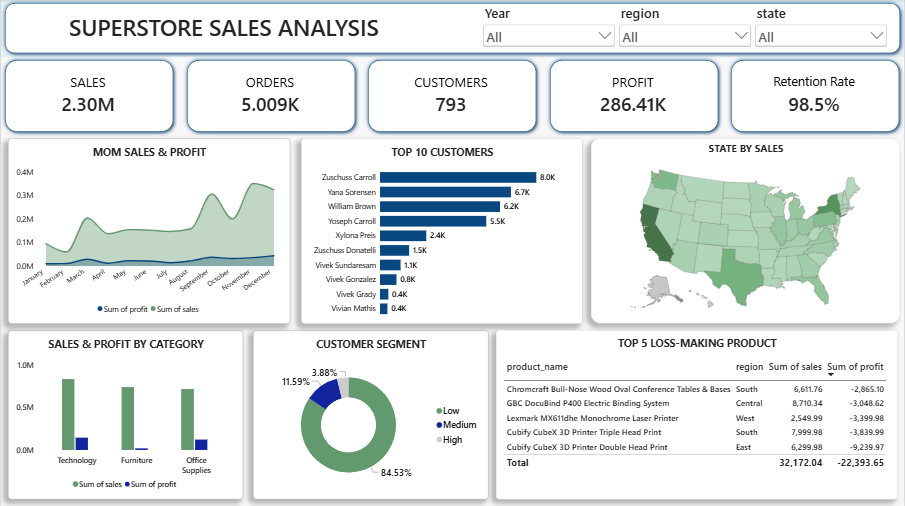

The page's visual inventory and layout, read from the dashboard file:
{"tool":"powerbi","page":{"name":"Page 1","canvas":[1920,1080],"ordinal":0},"visuals":[{"type":"shape","box":[0,0,1920,124.1],"z":0},{"type":"shape","box":[0,121.4,375,170],"z":0,"group":"g1"},{"type":"shape","box":[386.1,121.4,375,170],"z":0,"group":"g2"},{"type":"shape","box":[772.1,121.4,375,170],"z":0,"group":"g3"},{"type":"shape","box":[1158.2,121.4,375,170],"z":0,"group":"g4"},{"type":"shape","box":[1544.2,121.4,375,170],"z":0,"group":"g5"},{"type":"textbox","box":[23.5,17.1,901.1,89.9],"z":1000},{"type":"cardVisual","fields":{"Data":["Sum(superstore_analysis superstore_sales.sales)"]},"box":[16,148.2,336.8,110],"z":1000,"group":"g1"},{"type":"cardVisual","fields":{"Data":["Count(superstore_analysis superstore_sales.order_id)"]},"box":[402.1,148.2,336.8,110],"z":1000,"group":"g2"},{"type":"cardVisual","fields":{"Data":["Sum(superstore_analysis superstore_sales.profit)"]},"box":[1174.2,148.2,336.8,110],"z":1000,"group":"g4"},{"type":"cardVisual","fields":{"Data":["superstore_analysis superstore_sales.Retention Rate"]},"box":[1560.2,148.2,336.8,110],"z":1000,"group":"g5"},{"type":"cardVisual","fields":{"Data":["Count(superstore_analysis superstore_sales.customer_id)"]},"box":[789.4,149.5,336.8,110],"z":1000,"group":"g3"},{"type":"slicer","fields":{"Values":["superstore_analysis superstore_sales.order_date.Variation.Date Hierarchy.Year"]},"box":[1021,10.7,289,89.9],"z":2000},{"type":"slicer","fields":{"Values":["superstore_analysis superstore_sales.region"]},"box":[1309.4,10.7,290,90],"z":3000},{"type":"slicer","fields":{"Values":["superstore_analysis superstore_sales.state"]},"box":[1598.9,10.7,289,89.9],"z":4000},{"type":"group","id":"g1","title":"CARD","box":[0,121.4,375.8,169.5],"z":5000},{"type":"group","id":"g2","title":"CARD","box":[386.1,121.4,375.8,169.5],"z":6000},{"type":"group","id":"g3","title":"CARD","box":[772.1,121.4,375.8,169.5],"z":7000},{"type":"group","id":"g4","title":"CARD","box":[1158.2,121.4,375.8,169.5],"z":8000},{"type":"group","id":"g5","title":"CARD","box":[1544.2,121.4,375.8,169.5],"z":9000},{"type":"clusteredColumnChart","title":"SALES & PROFIT BY CATEGORY","fields":{"Category":["superstore_analysis superstore_sales.category"],"Y":["Sum(superstore_analysis superstore_sales.sales)","Sum(superstore_analysis superstore_sales.profit)"]},"box":[14.6,704.3,500,360],"z":10000},{"type":"donutChart","title":"CUSTOMER SEGMENT","fields":{"Category":["superstore_analysis superstore_sales.Customer Segment"],"Y":["CountNonNull(superstore_analysis superstore_sales.Customer Segment)"]},"box":[535.1,704.2,500.9,359.6],"z":11000},{"type":"areaChart","title":"MOM SALES & PROFIT","fields":{"Category":["superstore_analysis superstore_sales.order_date.Variation.Date Hierarchy.Month"],"Y":["Sum(superstore_analysis superstore_sales.profit)","Sum(superstore_analysis superstore_sales.sales)"]},"box":[14.6,295.2,600,395],"z":12000},{"type":"barChart","title":"TOP 10 CUSTOMERS","fields":{"Category":["superstore_analysis superstore_sales.customer_name"],"Y":["Sum(superstore_analysis superstore_sales.sales)"]},"box":[637.1,295.2,599.1,394.5],"z":13000},{"type":"tableEx","title":"TOP 5 LOSS-MAKING PRODUCT","fields":{"Values":["superstore_analysis superstore_sales.product_name","superstore_analysis superstore_sales.region","Sum(superstore_analysis superstore_sales.sales)","Sum(superstore_analysis superstore_sales.profit)"]},"box":[1053.1,704.2,854,359.6],"z":14000},{"type":"shapeMap","title":"STATE BY SALES","fields":{"Category":["superstore_analysis superstore_sales.state"],"Value":["Sum(superstore_analysis superstore_sales.sales)"]},"box":[1254.3,295.4,657.1,393.8],"z":14001}]}

Visuals, with their boxes in screenshot pixels (x1, y1, x2, y2), scaled from the page's 1920x1080 canvas onto the 905x506 screenshot:
shape: 0,0,904,58
shape: 0,57,177,137
shape: 182,57,359,137
shape: 364,57,541,137
shape: 546,57,723,137
shape: 728,57,904,137
textbox: 11,8,436,50
cardVisual - Sum(superstore_analysis superstore_sales.sales): 8,69,166,121
cardVisual - Count(superstore_analysis superstore_sales.order_id): 190,69,348,121
cardVisual - Sum(superstore_analysis superstore_sales.profit): 553,69,712,121
cardVisual - superstore_analysis superstore_sales.Retention Rate: 735,69,894,121
cardVisual - Count(superstore_analysis superstore_sales.customer_id): 372,70,531,122
slicer - superstore_analysis superstore_sales.order_date.Variation.Date Hierarchy.Year: 481,5,617,47
slicer - superstore_analysis superstore_sales.region: 617,5,754,47
slicer - superstore_analysis superstore_sales.state: 754,5,890,47
"CARD" group: 0,57,177,136
"CARD" group: 182,57,359,136
"CARD" group: 364,57,541,136
"CARD" group: 546,57,723,136
"CARD" group: 728,57,904,136
"SALES & PROFIT BY CATEGORY" clusteredColumnChart: 7,330,243,499
"CUSTOMER SEGMENT" donutChart: 252,330,488,498
"MOM SALES & PROFIT" areaChart: 7,138,290,323
"TOP 10 CUSTOMERS" barChart: 300,138,583,323
"TOP 5 LOSS-MAKING PRODUCT" tableEx: 496,330,899,498
"STATE BY SALES" shapeMap: 591,138,901,323
